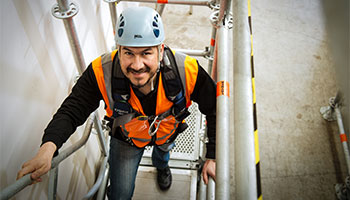hard hat: (115, 7, 163, 46)
high-vis: (92, 49, 196, 149)
